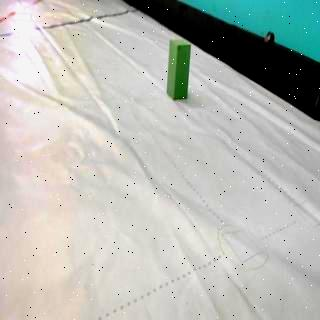greenbox: (165, 38, 192, 100)
